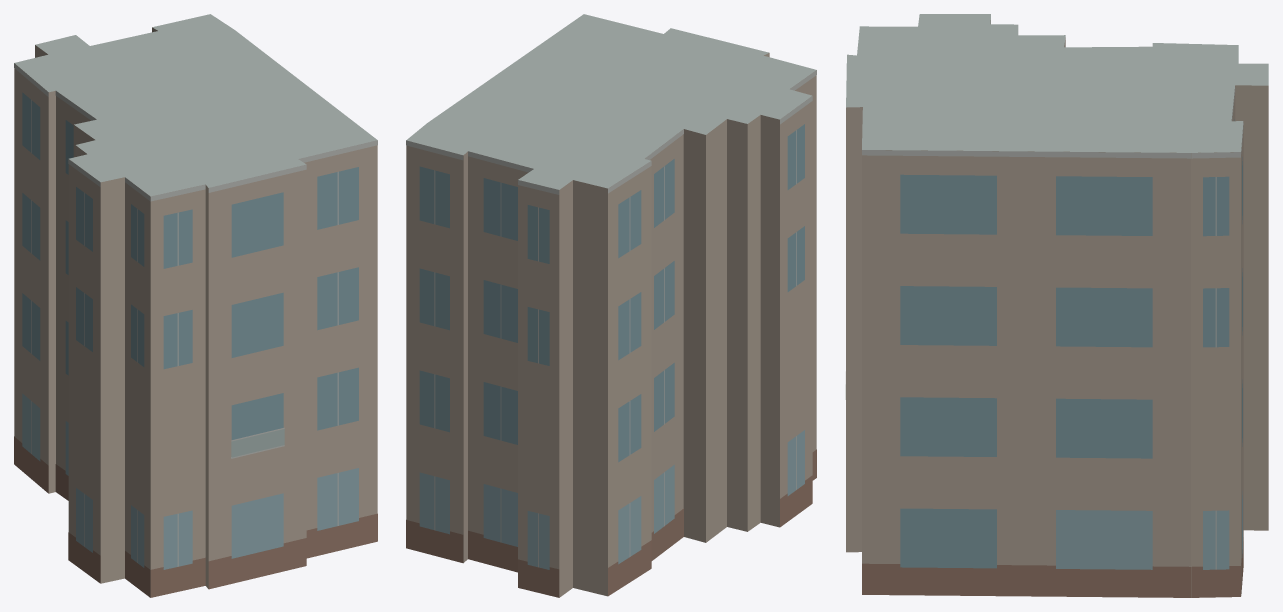
File: survey-upis-32510540.glb
The picture shows the model from 3 angles, left to right: view 1: azimuth 30°, elevation 25°; view 2: azimuth 150°, elevation 25°; view 3: azimuth 270°, elevation 25°; orthographic projection. The views are drawn at different scales.
Visible parts, largest first — view 1: survey-upis-32510540.tmp; view 2: survey-upis-32510540.tmp; view 3: survey-upis-32510540.tmp.
Boxes of the visible parts, bbox=[...] form: survey-upis-32510540.tmp: bbox=[14, 14, 377, 597]; survey-upis-32510540.tmp: bbox=[406, 14, 816, 597]; survey-upis-32510540.tmp: bbox=[845, 14, 1268, 597].
Size of the model in its own units: 13 by 19.4 by 16.74.
